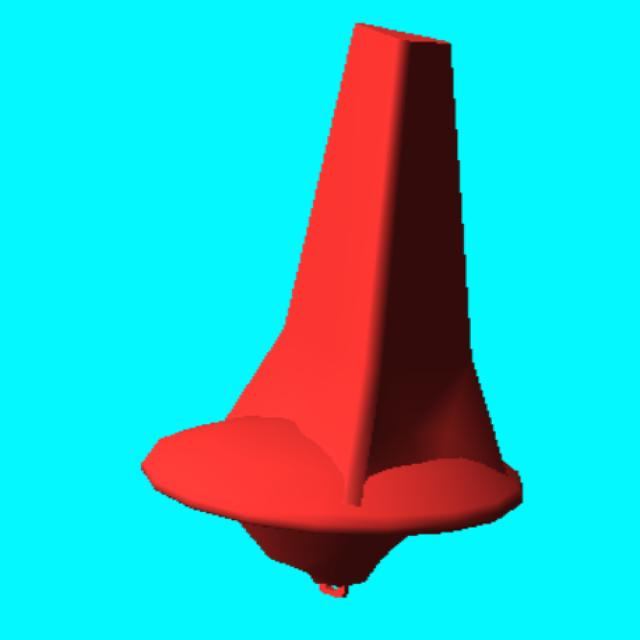RedBuoy: (142, 24, 521, 594)
